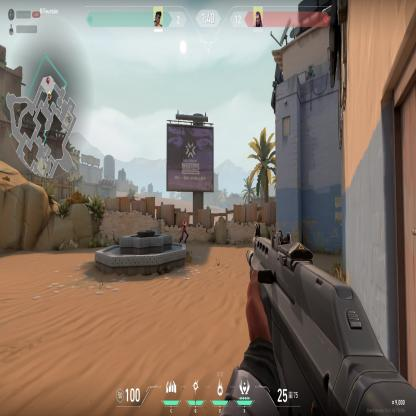enemy: (178, 216, 189, 243)
